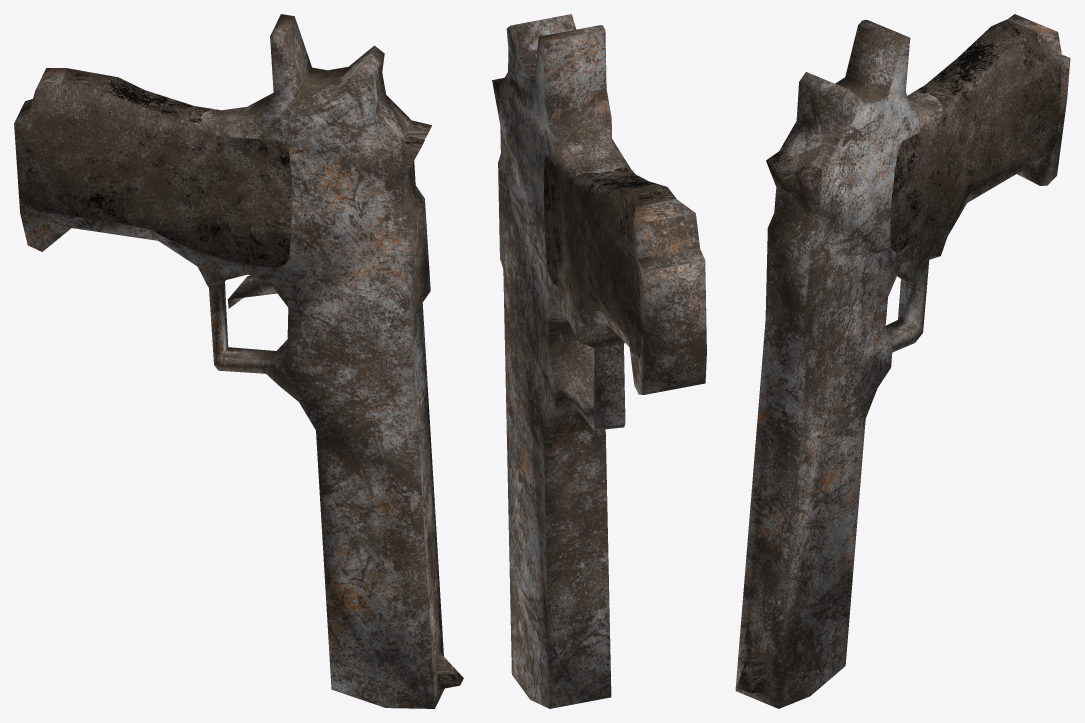
The model's file is Anim_idle_pistola_objetos.0026.obj.
3 renders of one model, left to right at view 1: azimuth 30°, elevation 25°; view 2: azimuth 150°, elevation 25°; view 3: azimuth 270°, elevation 25°, orthographic. The views are drawn at different scales.
Visible parts, largest first — view 1: Pistola1; view 2: Pistola1; view 3: Pistola1.
Part boxes in pixels (bbox=[...]): Pistola1: bbox=[14, 14, 463, 708]; Pistola1: bbox=[492, 14, 706, 708]; Pistola1: bbox=[735, 14, 1070, 708].
Bounding box in the file's own units: 0.835 × 1.7 × 0.8151.
